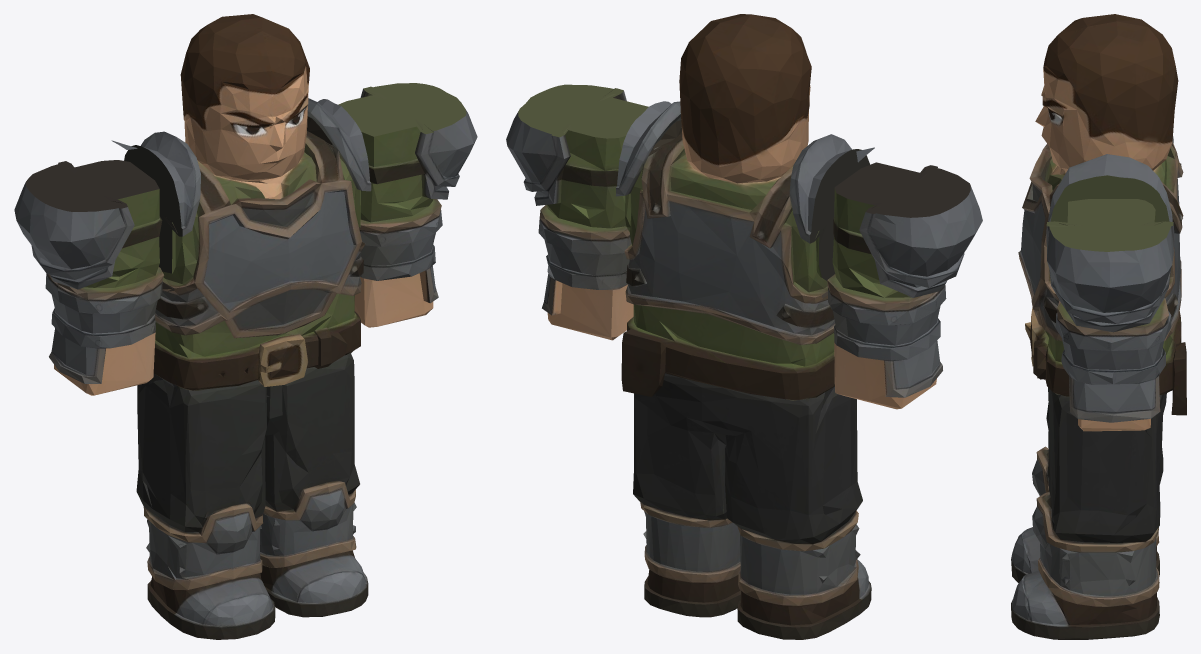
The model's file is Goro_R6_Auto_v2.fbx.
3 renders of one model, left to right at view 1: azimuth 30°, elevation 25°; view 2: azimuth 150°, elevation 25°; view 3: azimuth 270°, elevation 25°, orthographic. The views are drawn at different scales.
Parts seen in each view (by area): view 1: Torso, RightLeg, RightArm, LeftArm, LeftLeg, Head; view 2: Torso, RightLeg, RightArm, LeftArm, Head, LeftLeg; view 3: LeftLeg, LeftArm, Head, Torso, RightLeg.
Boxes of the visible parts, x1,y1,x2,y2 form: Torso: (111,99,371,411); RightLeg: (136,383,276,639); RightArm: (14,160,163,395); LeftArm: (338,83,477,327); LeftLeg: (260,370,368,617); Head: (170,14,345,188); Torso: (615,101,874,420); RightLeg: (716,397,871,639); RightArm: (827,162,982,409); LeftArm: (506,84,648,340); Head: (636,14,824,191); LeftLeg: (633,387,740,617); LeftLeg: (1011,387,1166,639); LeftArm: (1046,199,1174,431); Head: (1035,14,1178,169); Torso: (1018,136,1186,418); RightLeg: (1011,402,1163,583).
Size of the model in its own units: 4.48 by 5.52 by 1.53.
Materials: 1 (1 with a texture image).
